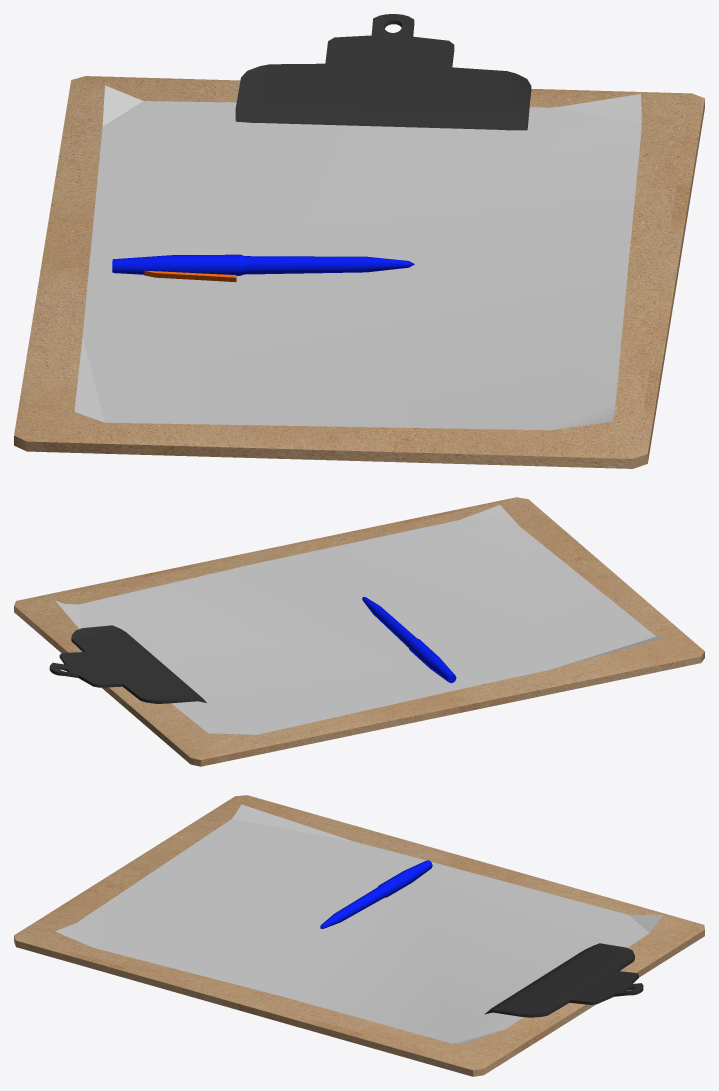
Rendered from Clipboard_SignIn.FBX.
3 views of the same model, one above another, from view 1: azimuth 30°, elevation 25°; view 2: azimuth 150°, elevation 25°; view 3: azimuth 270°, elevation 25° (orthographic). The views are drawn at different scales.
Parts seen in each view (by area): view 1: Clipboard_SignIn; view 2: Clipboard_SignIn; view 3: Clipboard_SignIn.
Part boxes in pixels (x1=…): Clipboard_SignIn: x1=14, y1=14, x2=704, y2=468; Clipboard_SignIn: x1=14, y1=497, x2=704, y2=766; Clipboard_SignIn: x1=14, y1=795, x2=704, y2=1076.
Bounding box in the file's own units: 15.31 × 0.7825 × 16.24.
